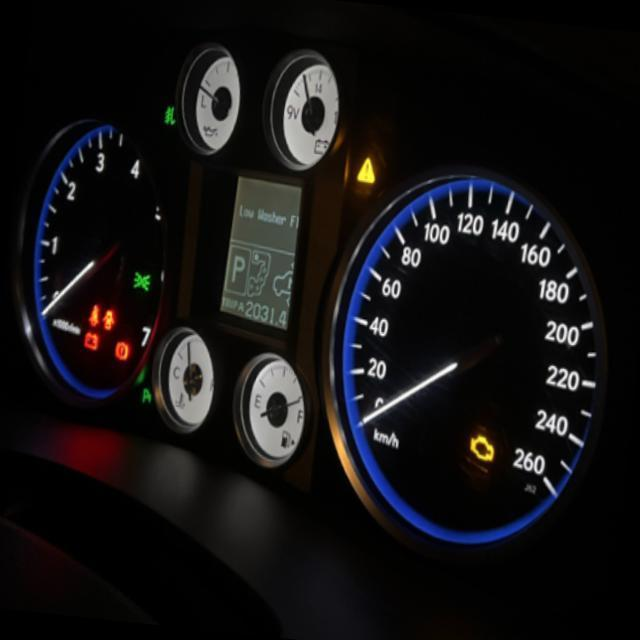Central Warning lamp: (354, 152, 379, 188)
Doors: (100, 307, 116, 332)
